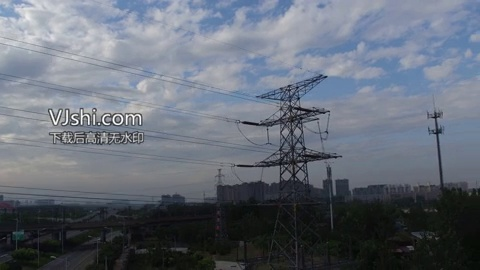tower_body: (242, 71, 345, 270)
tower_foot: (266, 224, 316, 270)
tower_head: (246, 73, 339, 125)
